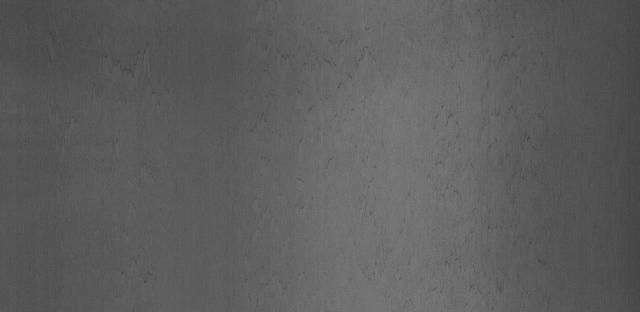silk_spot: (368, 201, 552, 304), (445, 44, 558, 179), (292, 35, 417, 126)
